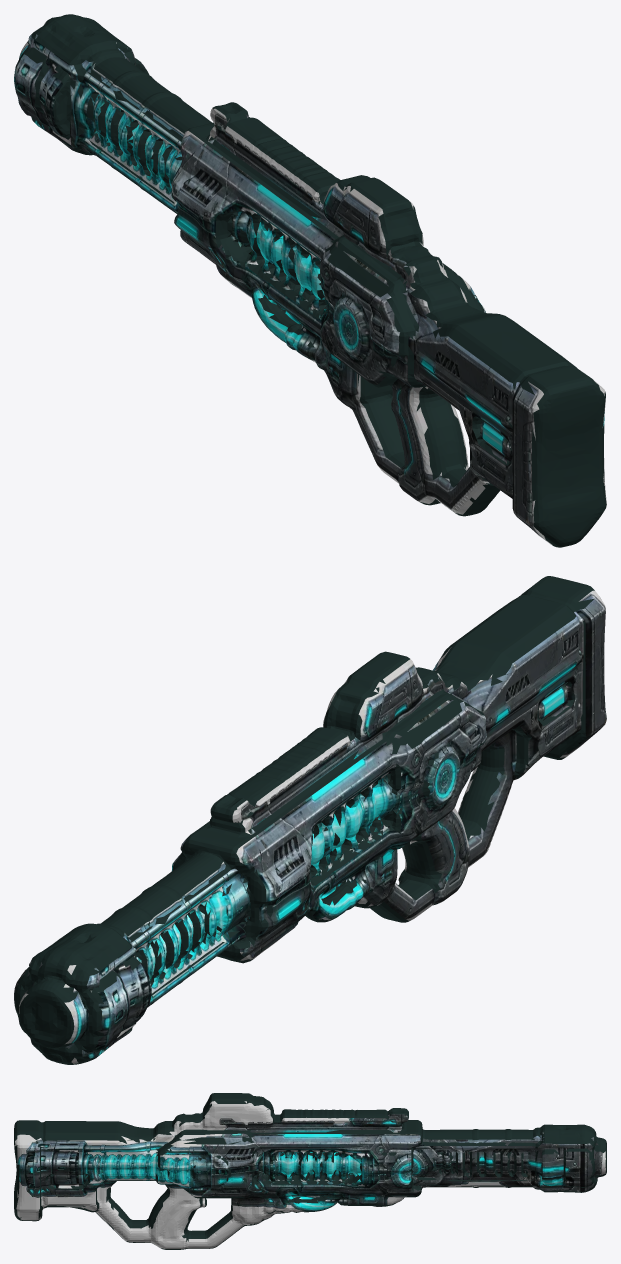
Rendered from arc9.glb.
3 views of the same model, one above another, from view 1: azimuth 30°, elevation 25°; view 2: azimuth 150°, elevation 25°; view 3: azimuth 270°, elevation 25° (orthographic). The views are drawn at different scales.
Parts seen in each view (by area): view 1: geometry_0; view 2: geometry_0; view 3: geometry_0.
Boxes of the visible parts, x1=… form: geometry_0: x1=14, y1=14, x2=606, y2=547; geometry_0: x1=14, y1=576, x2=606, y2=1064; geometry_0: x1=14, y1=1093, x2=606, y2=1249.
Size of the model in its own units: 0.0911 by 0.2246 by 0.8.
Materials: 1 (1 with a texture image).
